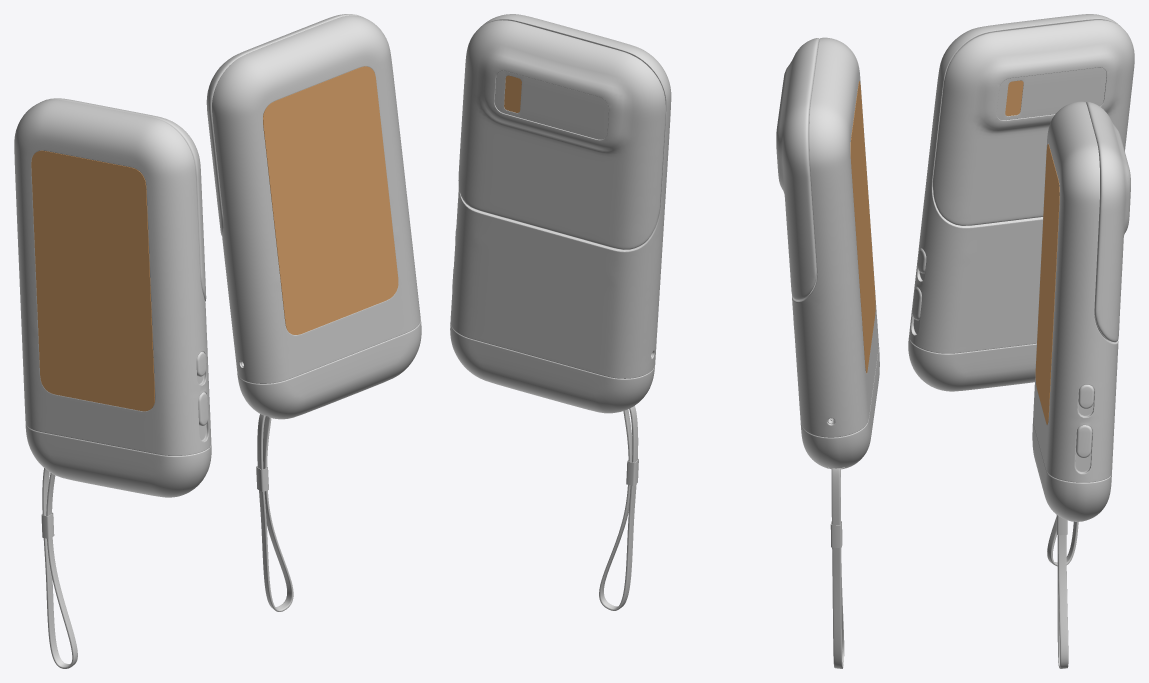
The model's file is p_57_scanner_sf.fbx.
3 views of the same model, side by side, from view 1: azimuth 30°, elevation 25°; view 2: azimuth 150°, elevation 25°; view 3: azimuth 270°, elevation 25° (orthographic). The views are drawn at different scales.
Parts seen in each view (by area): view 1: scanner.002_low, scanner.002_low.001, scanner.012_low.001, scanner.012_low, scanner.001_low.001, scanner.001_low, scanner.006_low.001, scanner.006_low, scanner_low, scanner_low.001; view 2: scanner_low, scanner.002_low, scanner.002_low.001, scanner_low.001, scanner.001_low, scanner.009_low, scanner.012_low.001, scanner.001_low.001, scanner.006_low, scanner.006_low.001; view 3: scanner_low.001, scanner.002_low, scanner.002_low.001, scanner_low, scanner.001_low.001, scanner.012_low, scanner.009_low.001, scanner.001_low, scanner.006_low, scanner.007_low.001, scanner.006_low.001, scanner.008_low (+1 smaller).
Part boxes in pixels (left/top/right/bottom): scanner.002_low: left=212, top=15, right=420, bottom=383; scanner.002_low.001: left=14, top=99, right=211, bottom=455; scanner.012_low.001: left=31, top=150, right=154, bottom=411; scanner.012_low: left=263, top=66, right=398, bottom=334; scanner.001_low.001: left=25, top=424, right=211, bottom=497; scanner.001_low: left=237, top=320, right=421, bottom=419; scanner.006_low.001: left=42, top=468, right=77, bottom=668; scanner.006_low: left=257, top=414, right=293, bottom=611; scanner_low: left=206, top=14, right=363, bottom=236; scanner_low.001: left=40, top=98, right=206, bottom=301; scanner_low: left=458, top=20, right=665, bottom=249; scanner.002_low: left=450, top=14, right=671, bottom=378; scanner.002_low.001: left=792, top=37, right=878, bottom=437; scanner_low.001: left=776, top=38, right=819, bottom=300; scanner.001_low: left=450, top=322, right=655, bottom=413; scanner.009_low: left=494, top=71, right=608, bottom=139; scanner.012_low.001: left=850, top=81, right=875, bottom=373; scanner.001_low.001: left=800, top=346, right=879, bottom=469; scanner.006_low: left=599, top=406, right=638, bottom=610; scanner.006_low.001: left=831, top=468, right=844, bottom=668; scanner_low.001: left=932, top=20, right=1134, bottom=225; scanner.002_low: left=1033, top=101, right=1118, bottom=482; scanner.002_low.001: left=909, top=14, right=1120, bottom=353; scanner_low: left=1086, top=102, right=1130, bottom=342; scanner.001_low.001: left=908, top=337, right=1036, bottom=391; scanner.012_low: left=1035, top=144, right=1059, bottom=424; scanner.009_low.001: left=996, top=67, right=1106, bottom=120; scanner.001_low: left=1032, top=421, right=1111, bottom=521; scanner.006_low: left=1057, top=535, right=1068, bottom=668; scanner.007_low.001: left=1005, top=80, right=1023, bottom=115; scanner.006_low.001: left=1047, top=517, right=1078, bottom=566; scanner.008_low: left=1076, top=425, right=1092, bottom=457.
Bounding box in the file's own units: 137 × 189 × 68.6.
